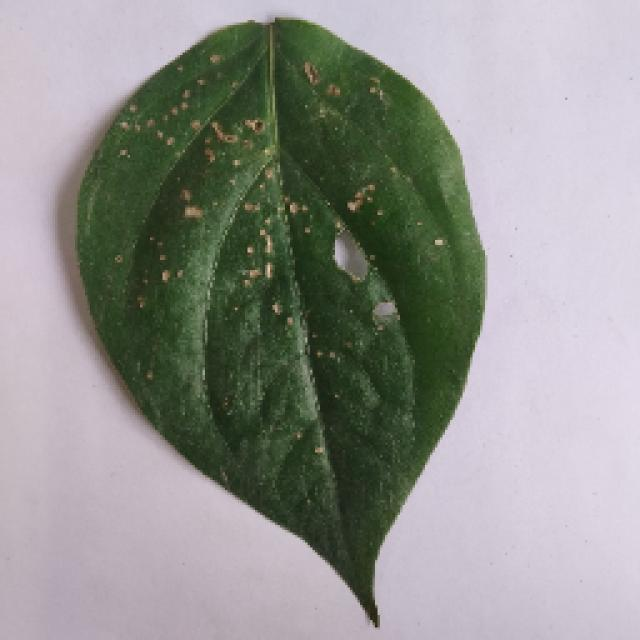pollu-disease: (75, 15, 483, 623)
